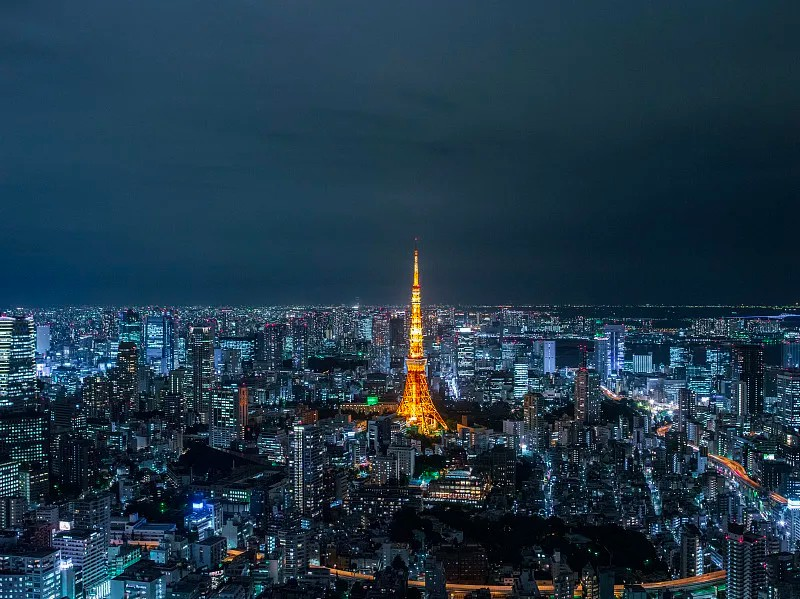Tokyo: (391, 233, 447, 435)
